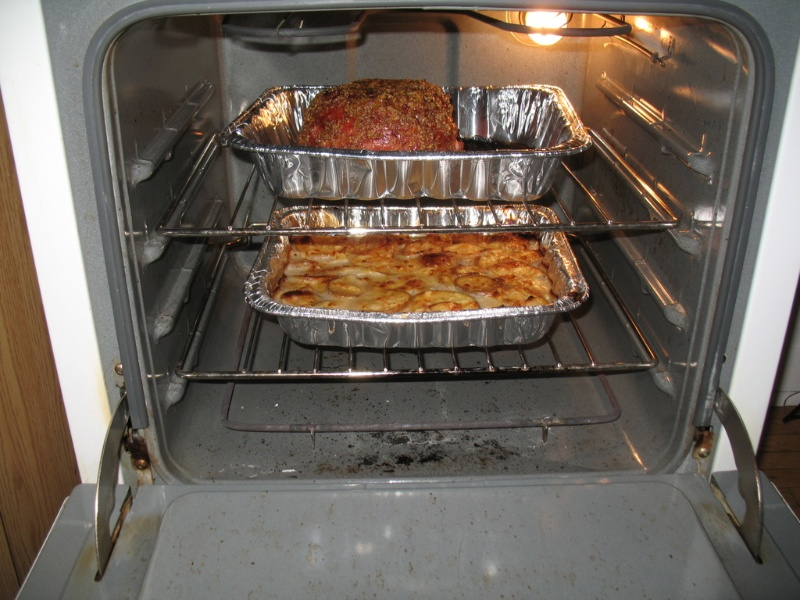oven: (4, 3, 795, 597)
